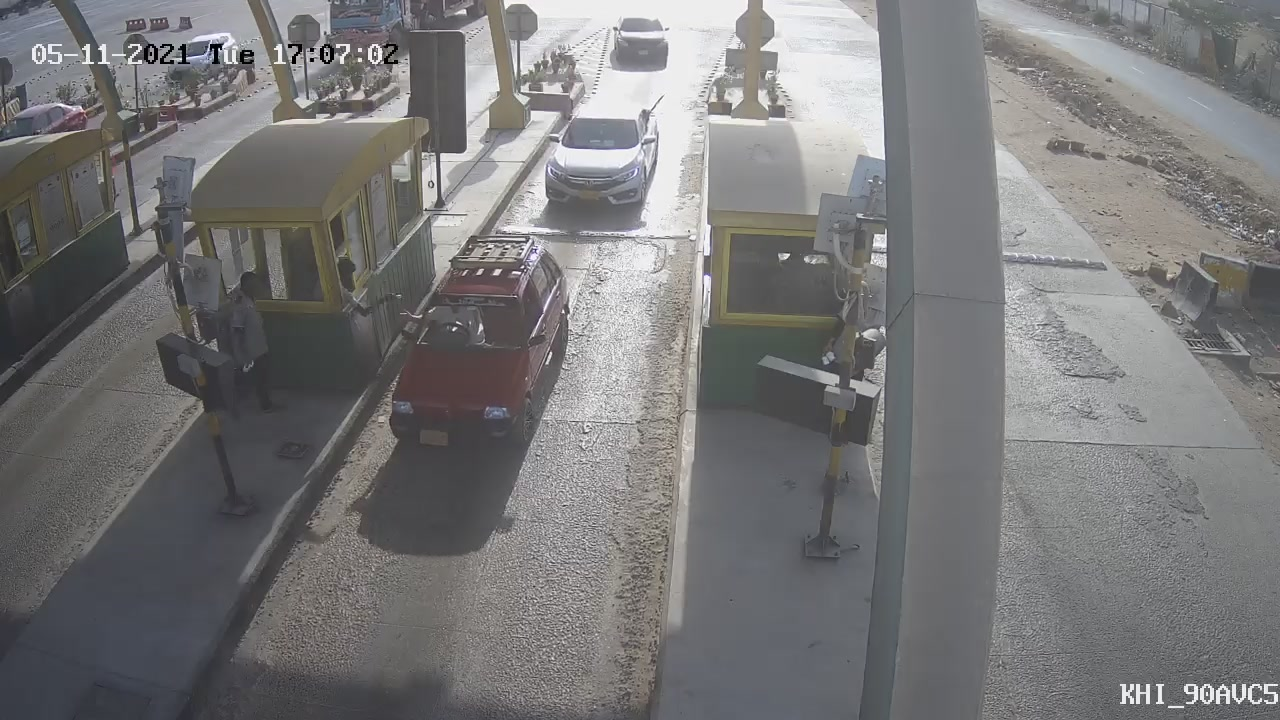F1: (368, 217, 589, 472), (529, 86, 681, 226)
